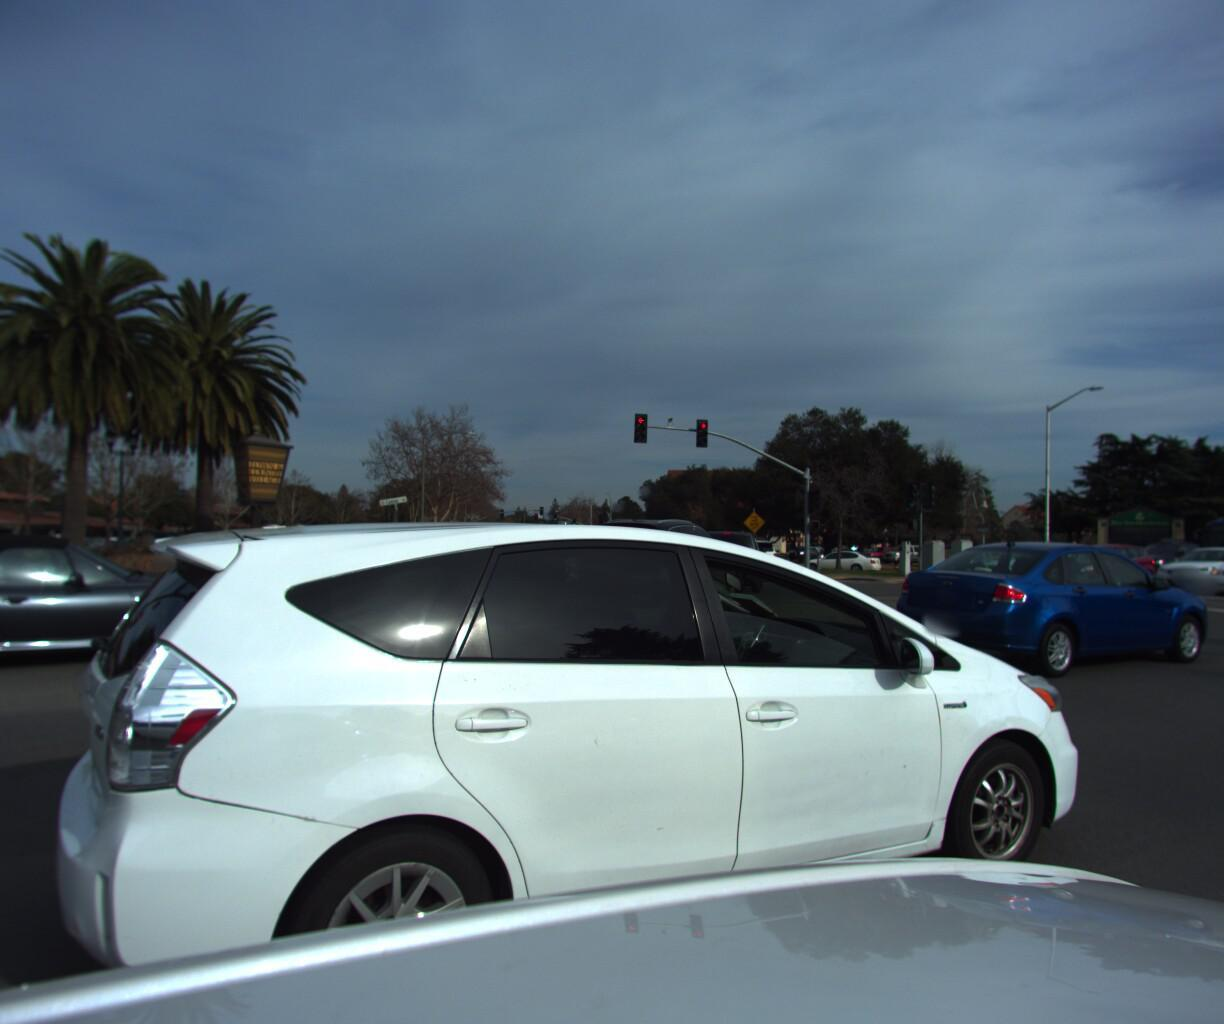bus: (1176, 509, 1224, 579)
car: (72, 446, 1136, 1024), (873, 533, 1224, 684), (0, 530, 295, 692), (566, 516, 756, 611), (967, 538, 1097, 589), (1037, 538, 1164, 585), (686, 522, 771, 585), (1103, 531, 1215, 574), (1140, 539, 1224, 592), (199, 531, 312, 567), (240, 532, 338, 565), (716, 535, 788, 577), (796, 544, 884, 573), (1186, 538, 1224, 594), (521, 540, 571, 579)
